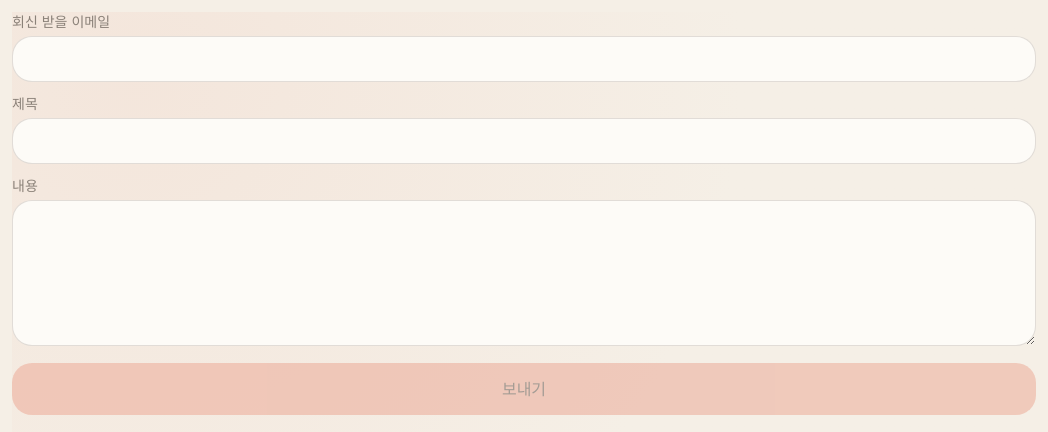
Test case: 문의 폼 (§9.2) › 이메일·제목·내용 중 하나라도 비어 있으면 보내기 버튼이 비활성 상태다
Check: the button "보내기" is disabled, box [12,363,1036,415]
Type "me@omni.app" into the field labelled "회신 받을 이메일". click: (524, 59)
box: [12,36,1036,82]
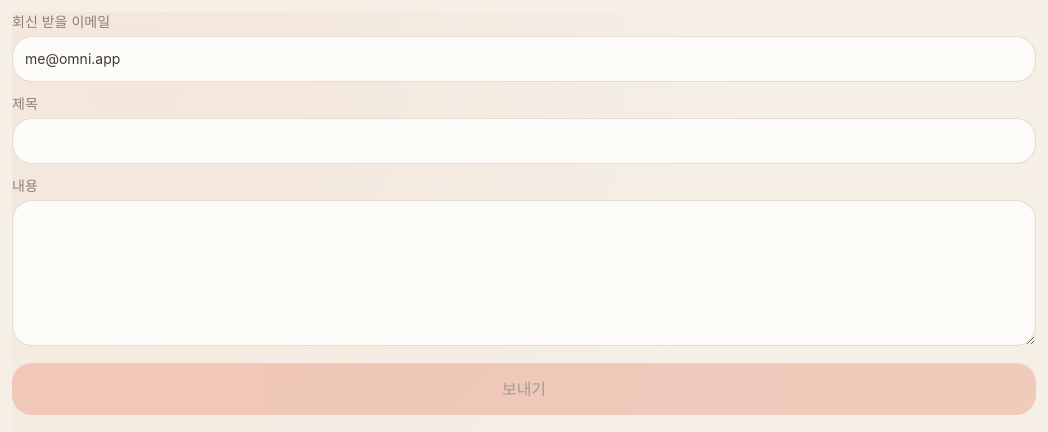
Check: the button "보내기" is disabled, box [12,363,1036,415]
Type "문의 제목" into the field labelled "제목". click: (524, 141)
box: [12,118,1036,164]
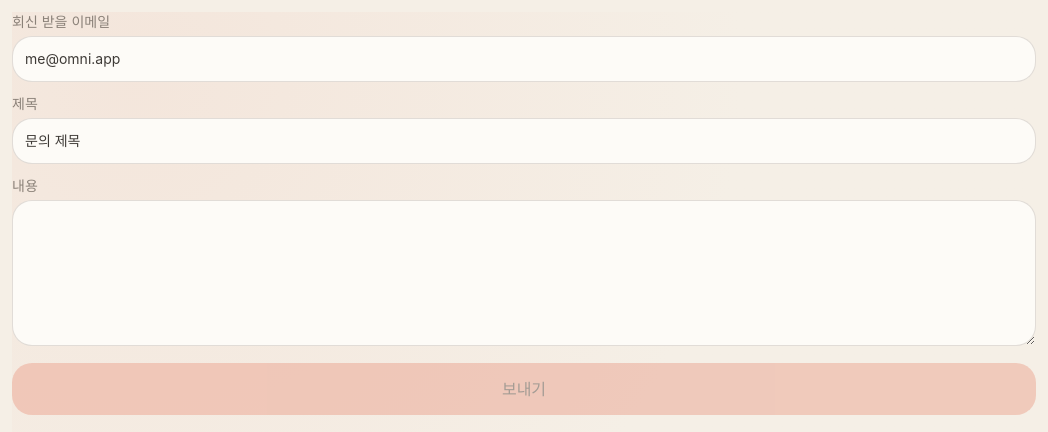
Check: the button "보내기" is disabled, box [12,363,1036,415]
Type "문의 내용입니다" into the text box labelled "내용". click: (524, 273)
box: [12,200,1036,346]
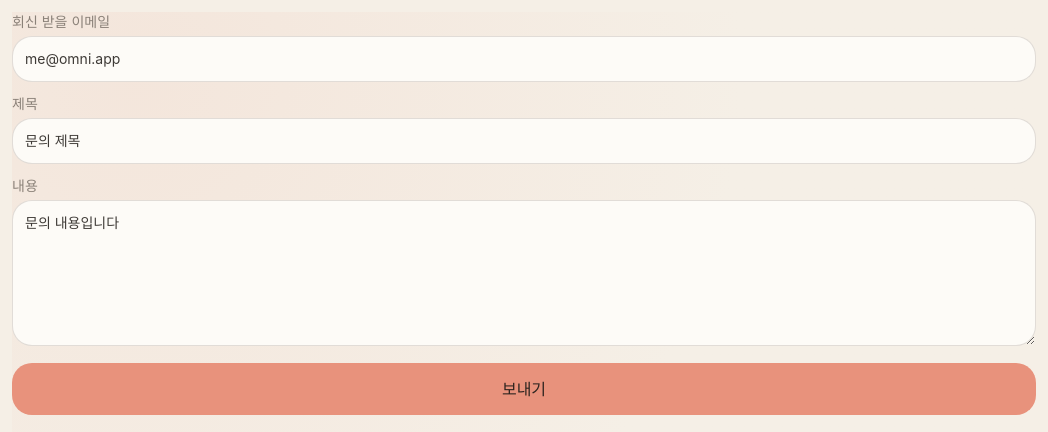
Check: the button "보내기" is enabled, box [12,363,1036,415]
